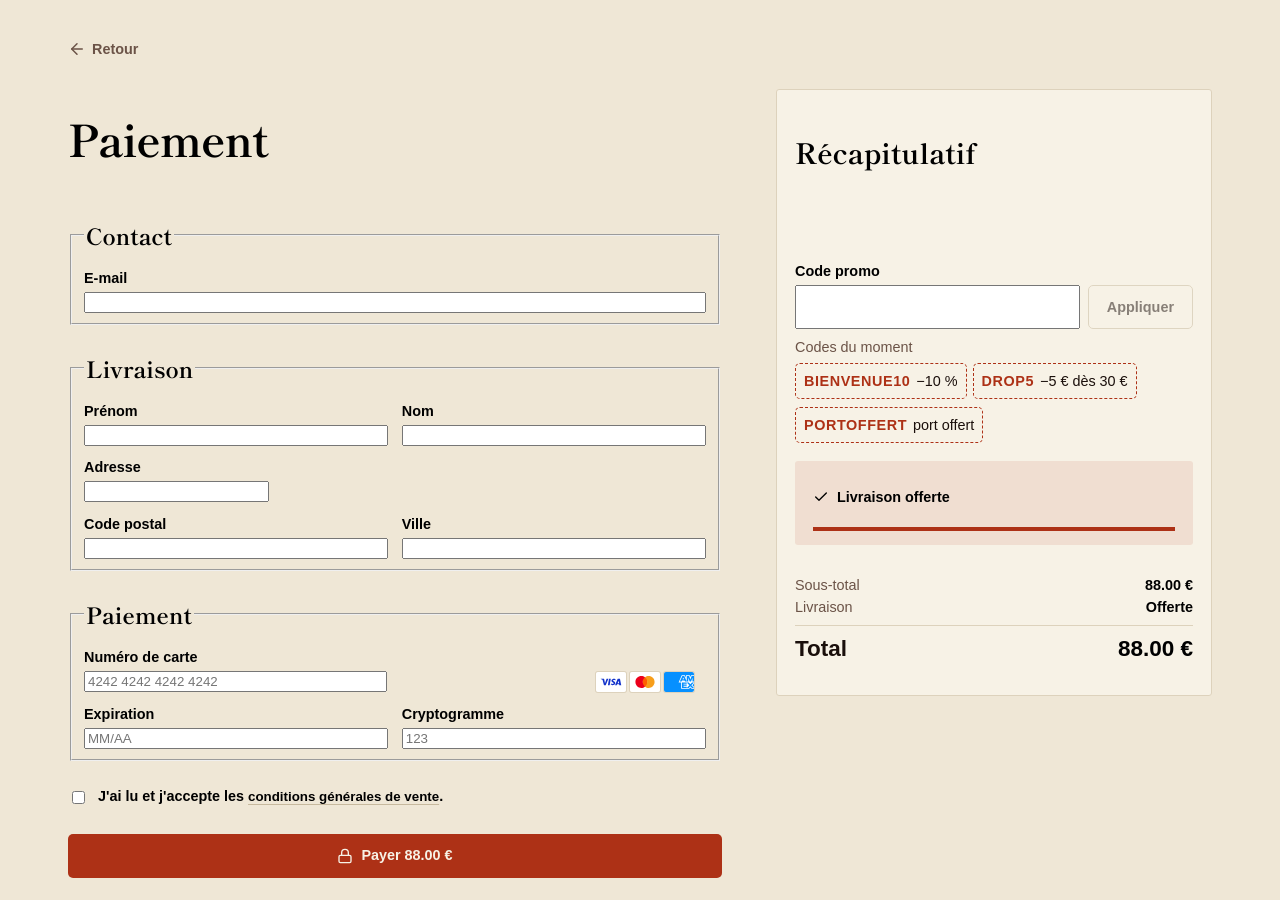
Scenario: numéro de carte › seize chiffres à la clé fausse sont invalides, pas incomplets
Type "4213 7213 8213 9821" into the field labelled "Numéro de carte" at (236, 682), box [84,671,387,692]
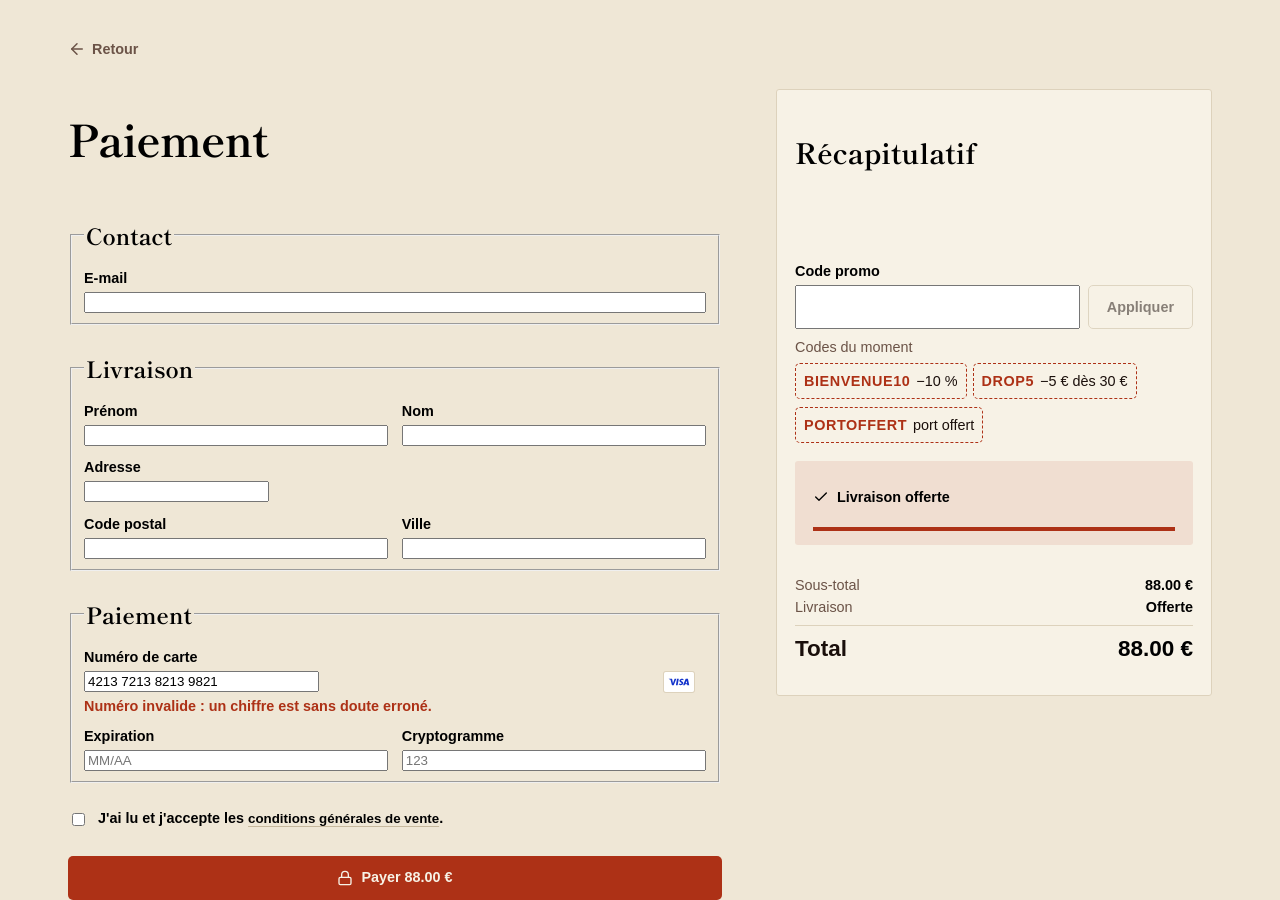
Expected: the text "Numéro invalide : un chiffre est sans doute erroné." is shown, [84,698,432,714]
